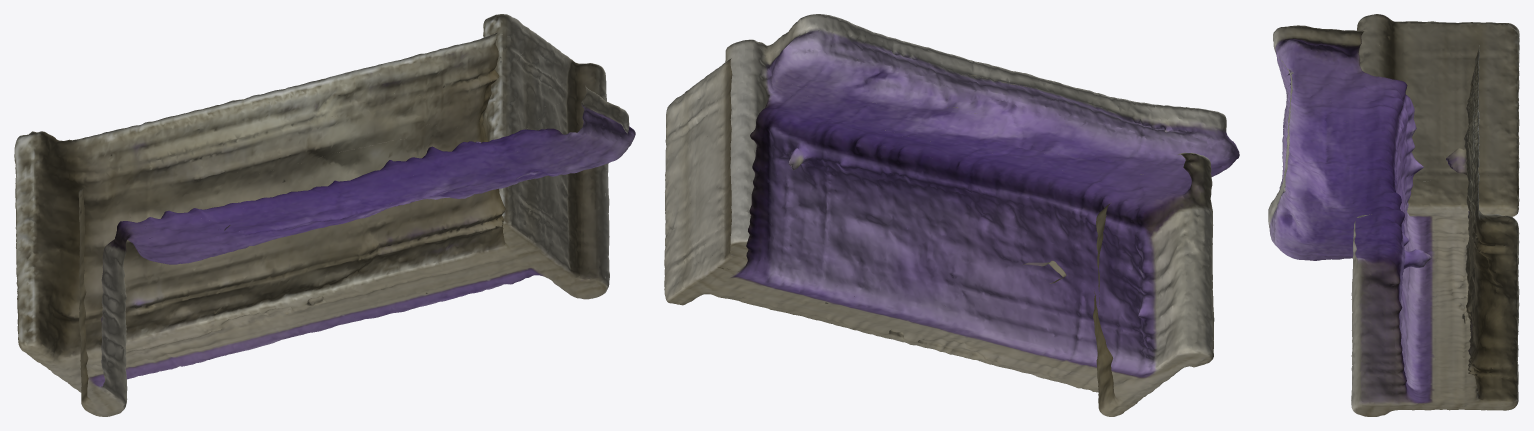
The model's file is sofa.glb.
3 renders of one model, left to right at view 1: azimuth 30°, elevation 25°; view 2: azimuth 150°, elevation 25°; view 3: azimuth 270°, elevation 25°, orthographic. The views are drawn at different scales.
Size of the model in its own units: 1 by 0.422 by 0.4845.
